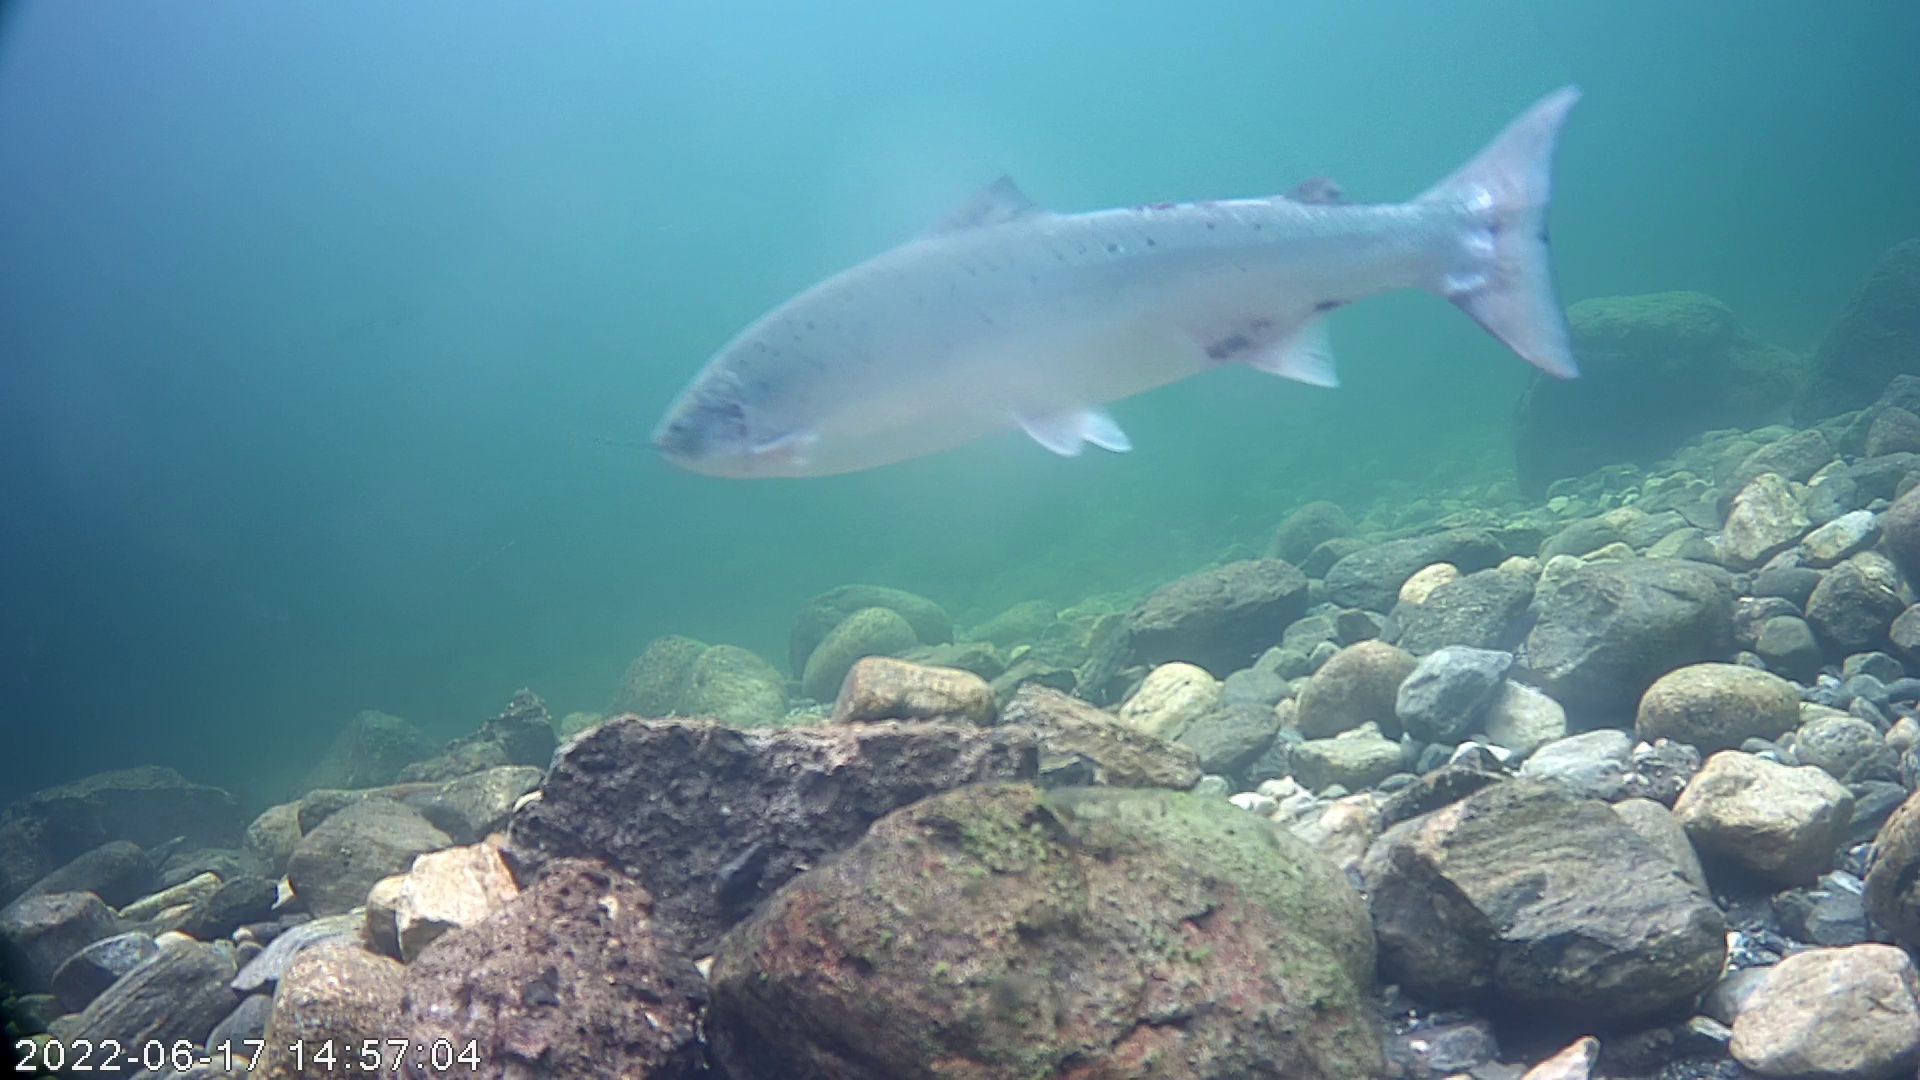salmon: (644, 78, 1586, 489)
